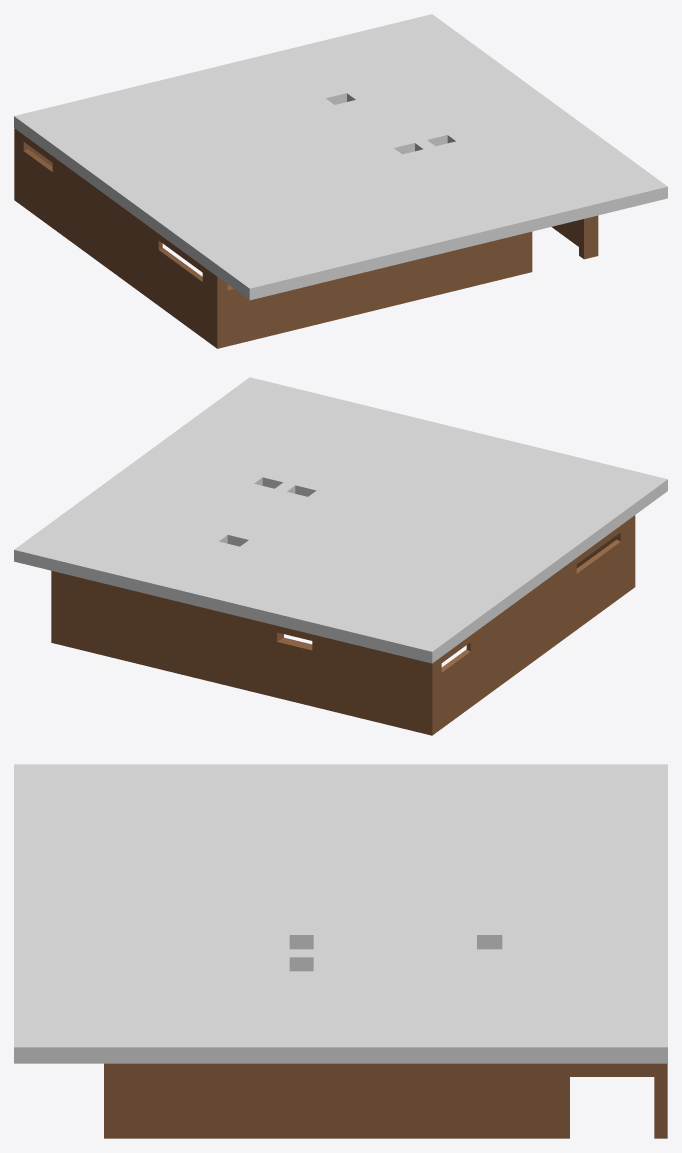
Rendered from Roof and Walls.fbx.
3 views of the same model, one above another, from view 1: azimuth 30°, elevation 25°; view 2: azimuth 150°, elevation 25°; view 3: azimuth 270°, elevation 25° (orthographic). The views are drawn at different scales.
Parts seen in each view (by area): view 1: Roof, Structure; view 2: Roof, Structure; view 3: Roof, Structure.
Part boxes in pixels (<box>): Roof: <box>14,14,667,300</box>; Structure: <box>14,128,598,348</box>; Roof: <box>14,377,667,663</box>; Structure: <box>51,515,635,735</box>; Roof: <box>14,764,667,1063</box>; Structure: <box>104,1063,667,1138</box>.
Bounding box in the file's own units: 1404 × 270 × 1371.
